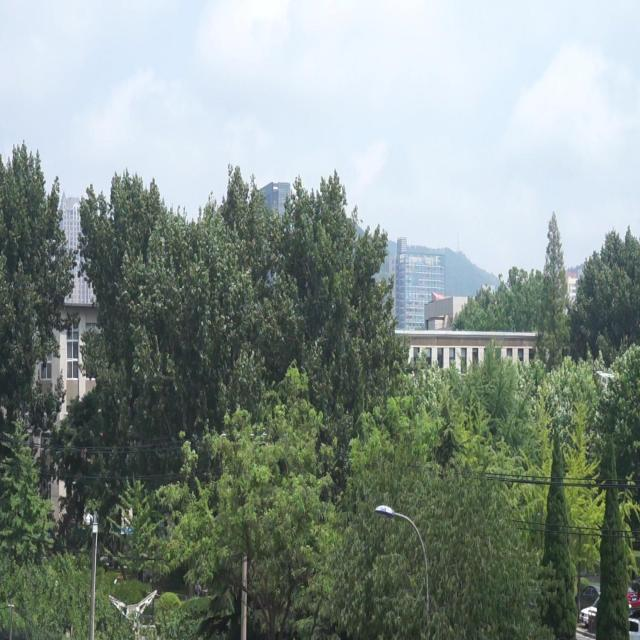UAV: (596, 371, 614, 385)
